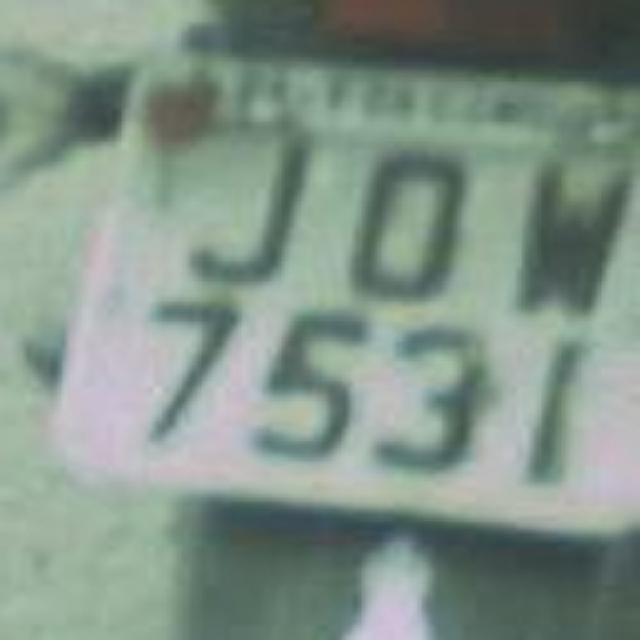1: (504, 312, 611, 472)
3: (348, 295, 524, 480)
5: (232, 288, 388, 480)
7: (109, 272, 256, 496)
J: (156, 115, 312, 300)
W: (491, 120, 624, 305)
